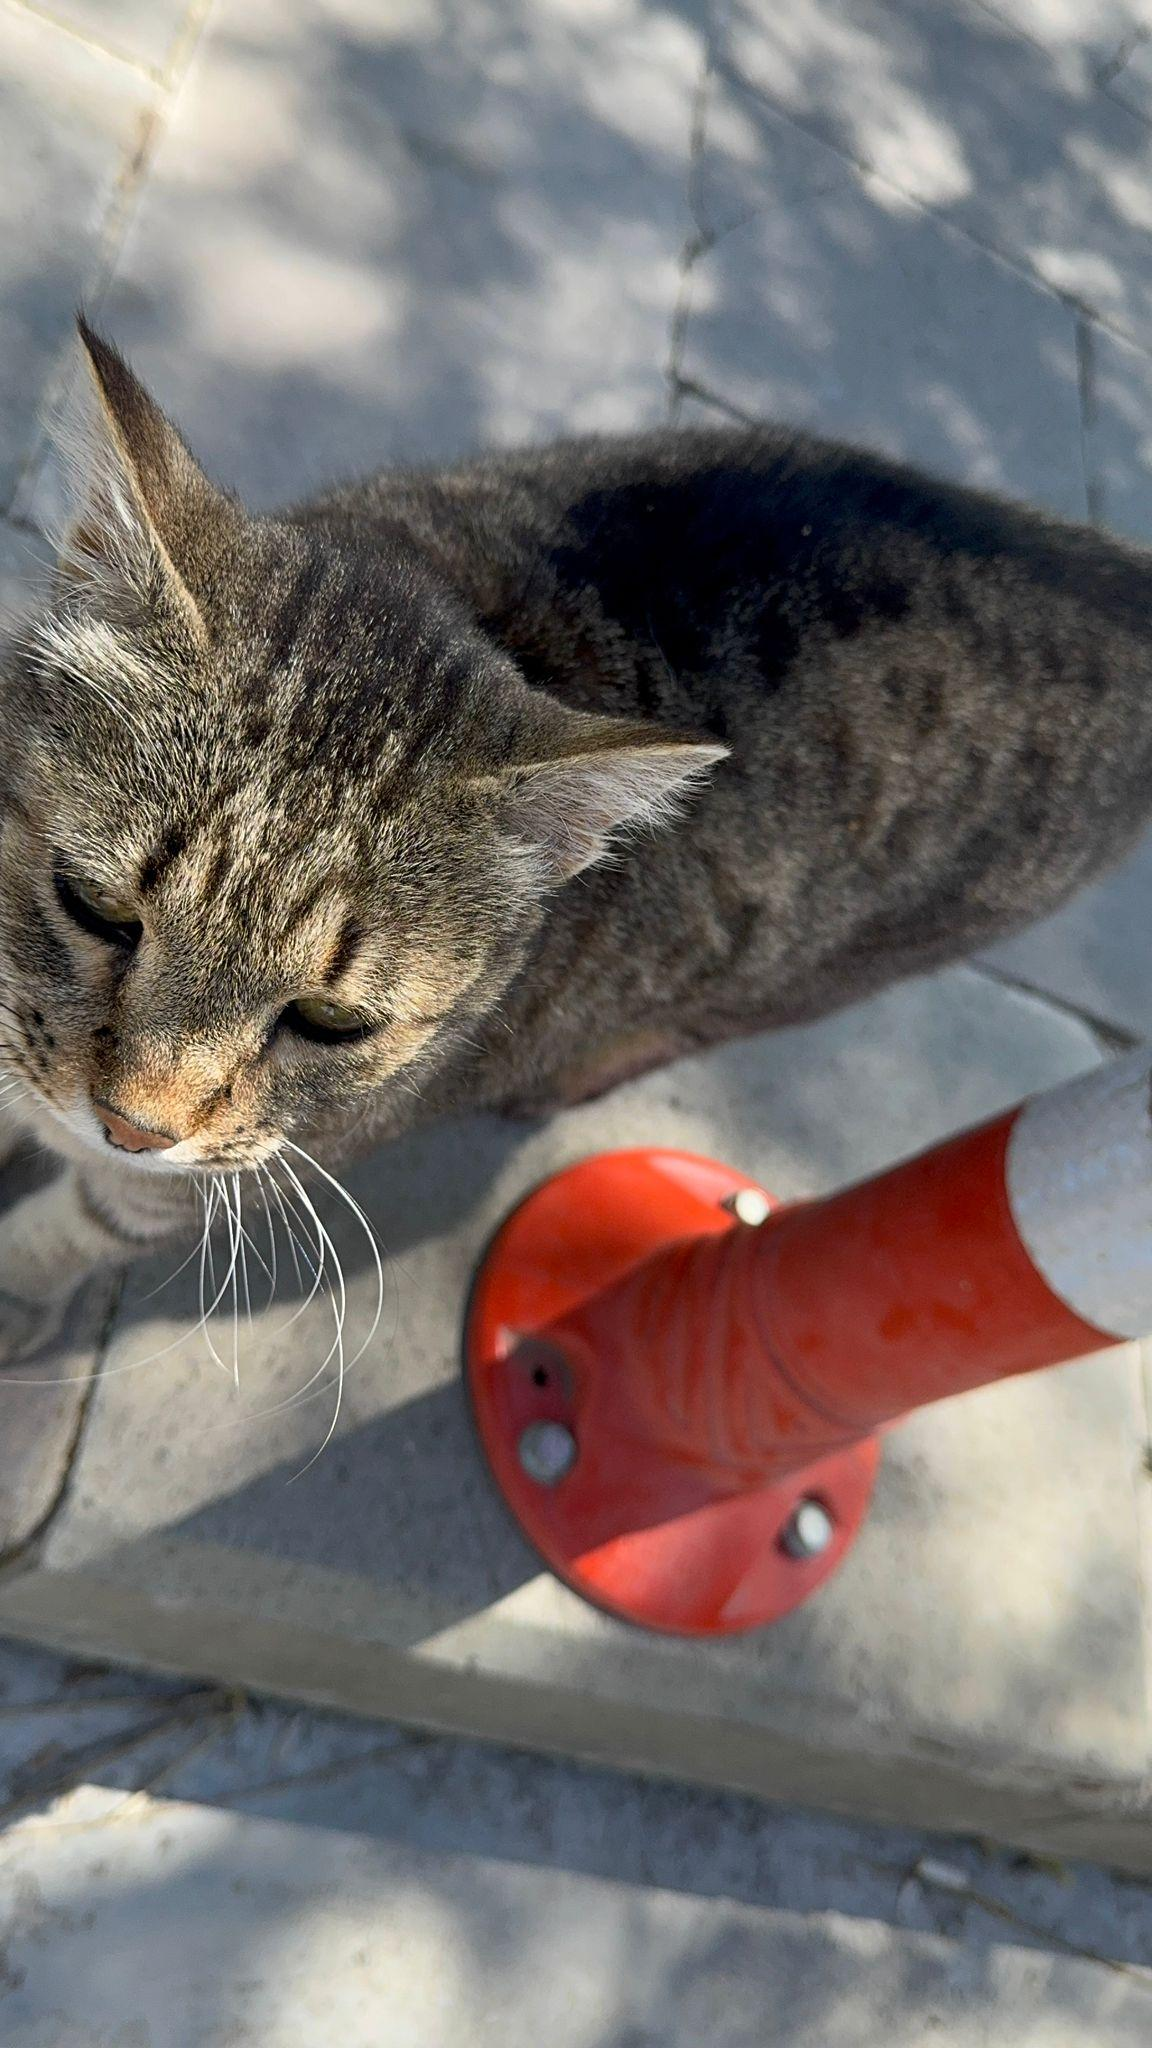kedo: (3, 314, 1142, 1363)
